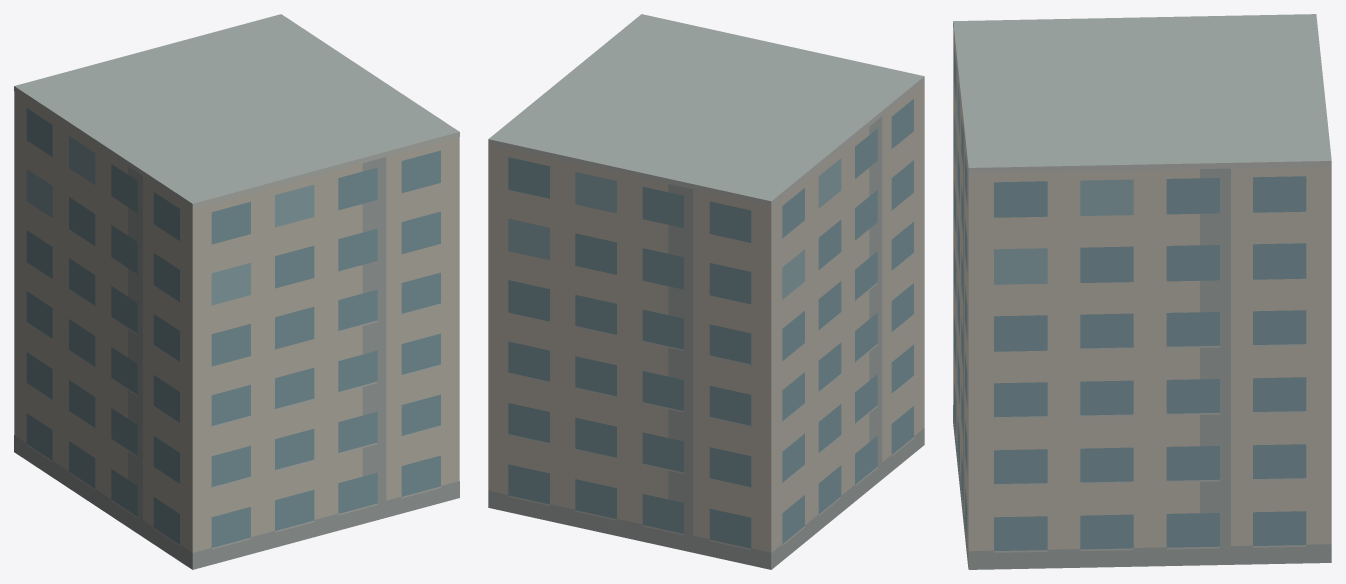
File: survey-upis-32705649.glb
3 views of the same model, side by side, from view 1: azimuth 30°, elevation 25°; view 2: azimuth 150°, elevation 25°; view 3: azimuth 270°, elevation 25° (orthographic). The views are drawn at different scales.
Visible parts, largest first — view 1: survey-upis-32705649.tmp; view 2: survey-upis-32705649.tmp; view 3: survey-upis-32705649.tmp.
Boxes of the visible parts, left/top/right/bottom form: survey-upis-32705649.tmp: left=14, top=14, right=459, bottom=569; survey-upis-32705649.tmp: left=488, top=14, right=924, bottom=569; survey-upis-32705649.tmp: left=953, top=14, right=1331, bottom=569.
Bounding box in the file's own units: 14.18 × 17.25 × 14.73.
